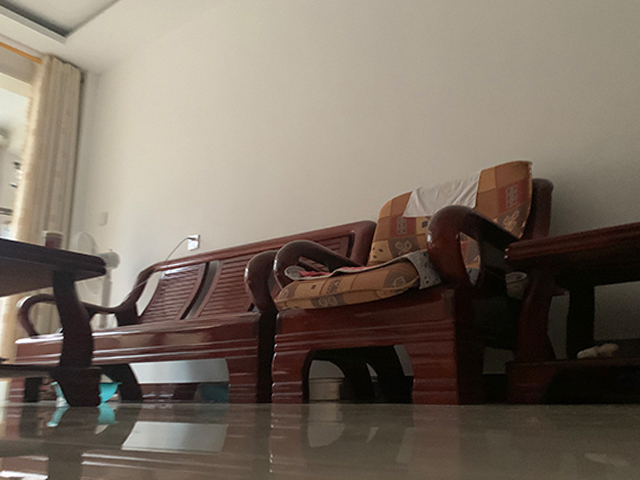curtain: (6, 52, 86, 359)
sofa: (268, 158, 555, 407), (14, 237, 282, 401)
table: (502, 220, 640, 408), (1, 238, 108, 409)
